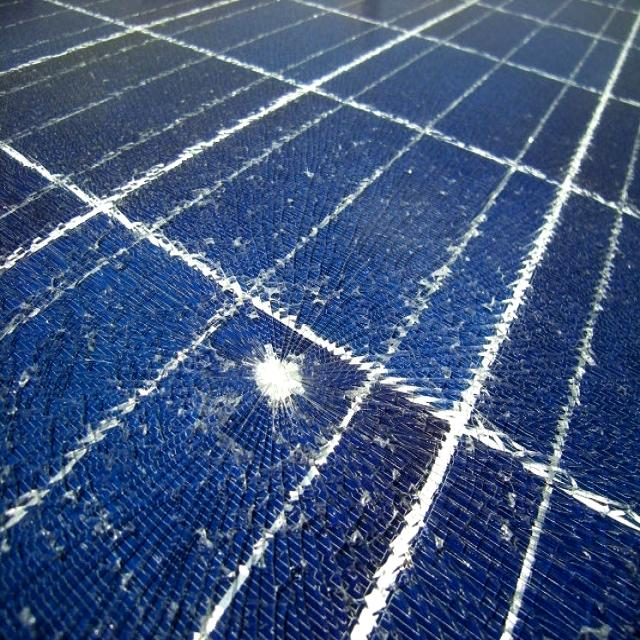hotspot: (234, 316, 338, 444)
